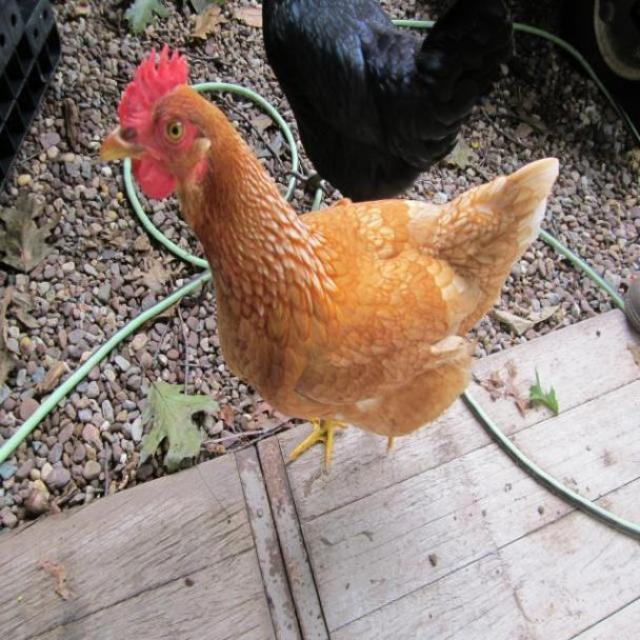Chicken: (104, 45, 548, 469)
